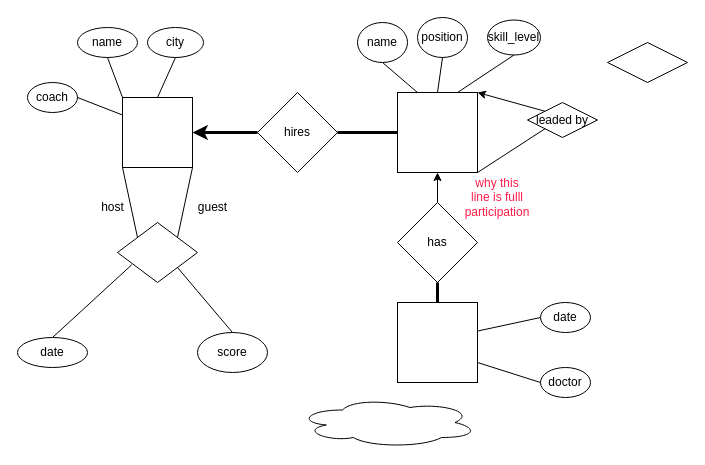
This 705x465 diagram has some shape labels left out. The shapes that lost their labels are listed below. From the top down, each one's box as (x1, y1, x2, y2) in pixels, then its label:
(606, 42, 688, 82): captain
(122, 96, 192, 168): team
(396, 92, 478, 172): players
(116, 222, 198, 282): plays
(396, 302, 478, 382): injury records
(296, 396, 478, 448): weak entity
